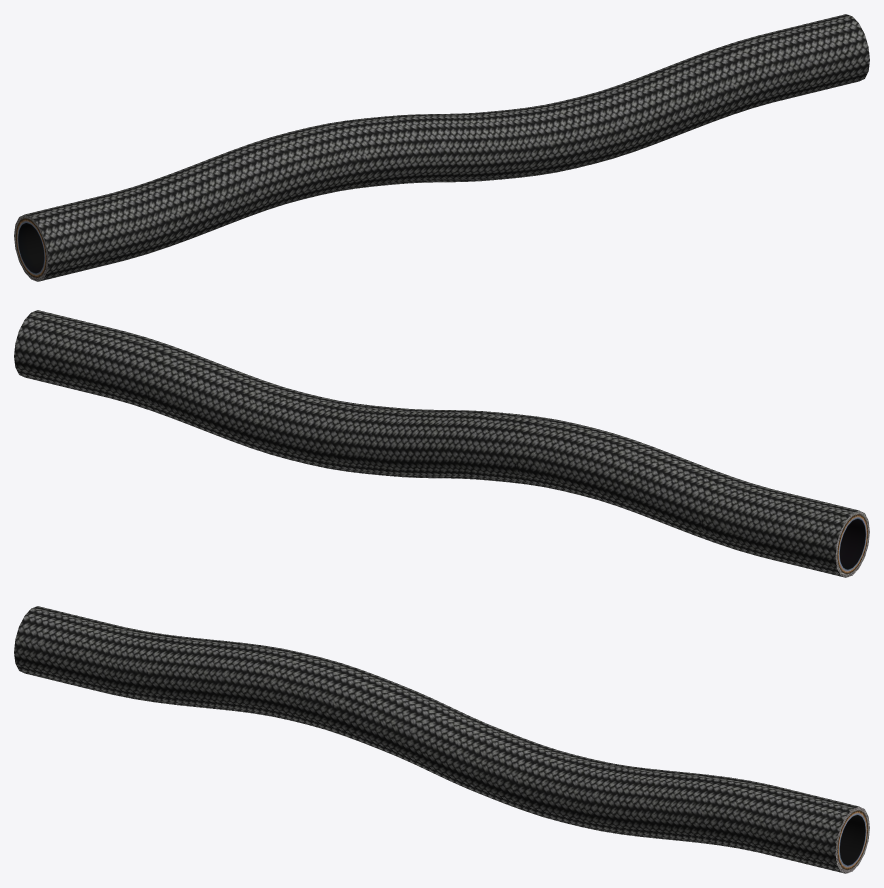
3 views of the same model, one above another, from view 1: azimuth 30°, elevation 25°; view 2: azimuth 150°, elevation 25°; view 3: azimuth 330°, elevation 25° (orthographic).
Parts seen in each view (by area): view 1: Aramid_Braid-12; view 2: Aramid_Braid-12; view 3: Aramid_Braid-12.
Boxes of the visible parts, <box> form: Aramid_Braid-12: <box>14,14,869,281</box>; Aramid_Braid-12: <box>14,310,869,577</box>; Aramid_Braid-12: <box>14,606,869,873</box>.
Bounding box in the file's own units: 0.3074 × 0.0351 × 0.0224.
2 materials, 2 textured.
